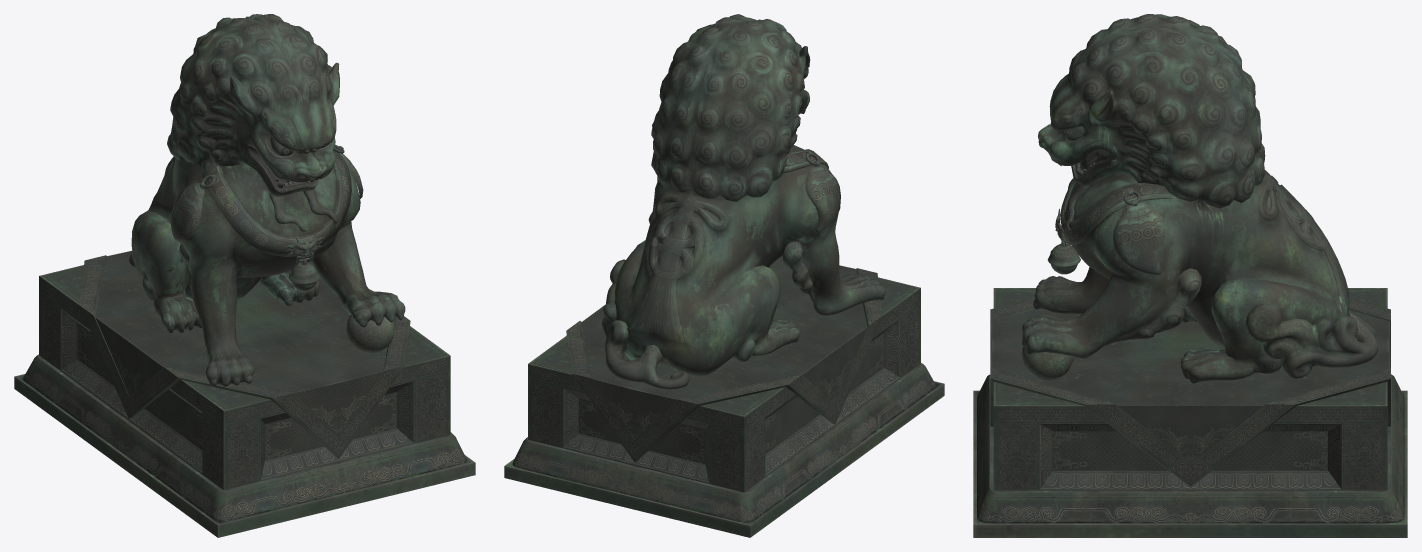
File: stone_lion.glb
The picture shows the model from 3 angles, left to right: view 1: azimuth 30°, elevation 25°; view 2: azimuth 150°, elevation 25°; view 3: azimuth 270°, elevation 25°; orthographic projection. The views are drawn at different scales.
Visible parts, largest first — view 1: ssz_2; view 2: ssz_2; view 3: ssz_2.
Boxes of the visible parts, x1,y1,x2,y2 form: ssz_2: (14,14,475,537); ssz_2: (504,14,944,537); ssz_2: (973,14,1407,537).
Size of the model in its own units: 69.46 by 109 by 95.1.
1 material, 1 textured.
